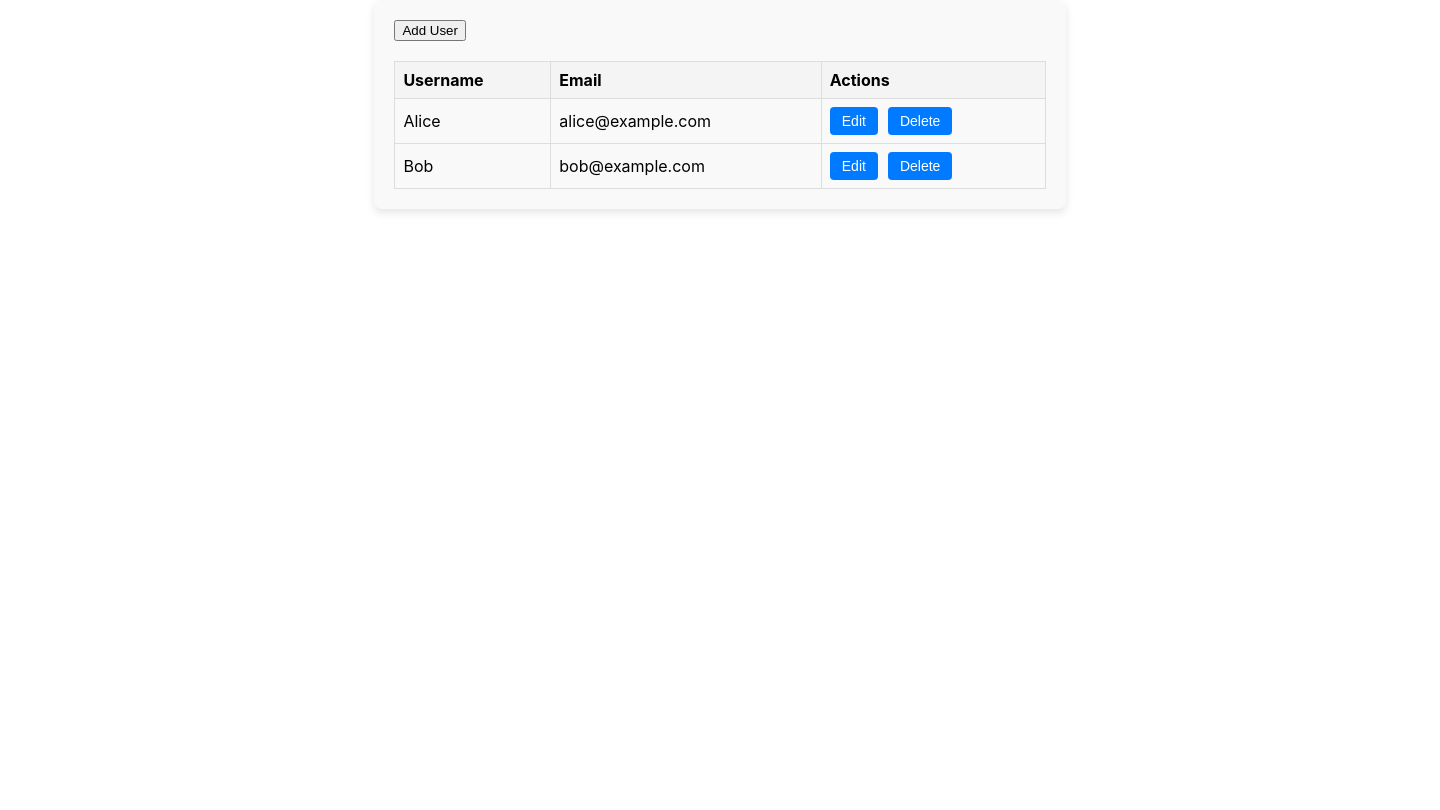
Test case: UserList Component › opens user form on add button click
Expected: the text "Alice" is shown, 395,98 -> 551,144
Step 1. Click the button "Add User" → coordinates (430, 30), box 394,20 -> 466,41
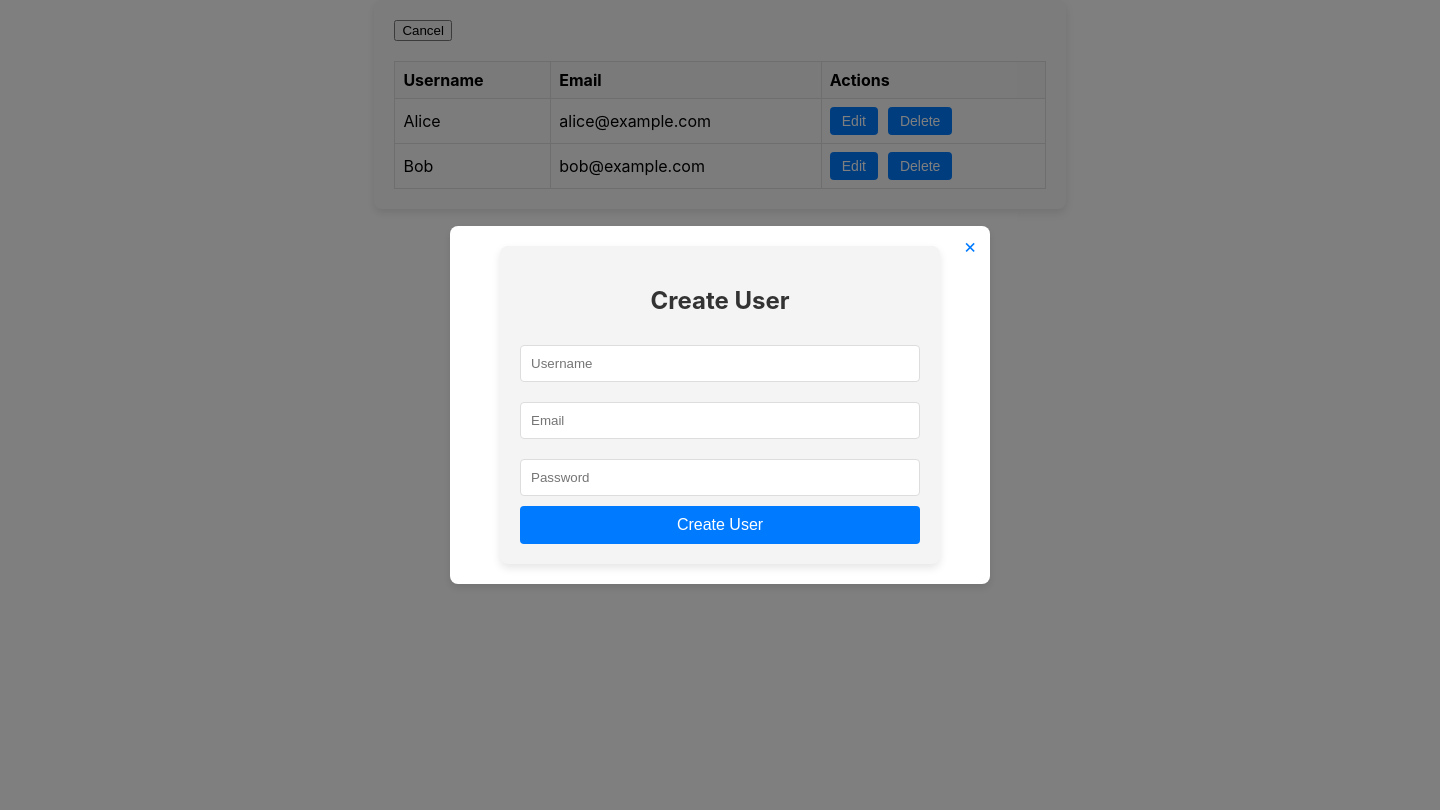
Expected: the button "Create User" is shown, 520,506 -> 920,544
